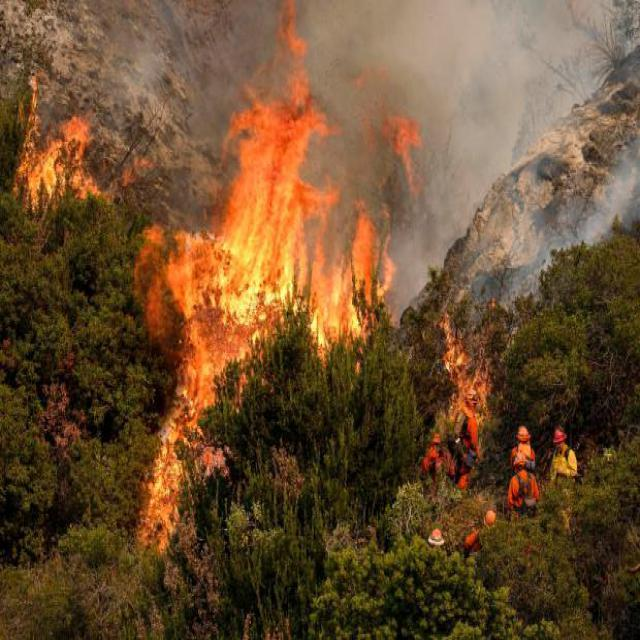Fire: (20, 9, 502, 546)
